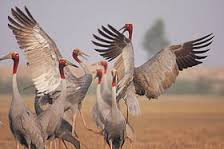seu_dau_do: (5, 6, 91, 123), (93, 22, 215, 103), (1, 51, 41, 148), (37, 59, 78, 148), (107, 69, 130, 149)
